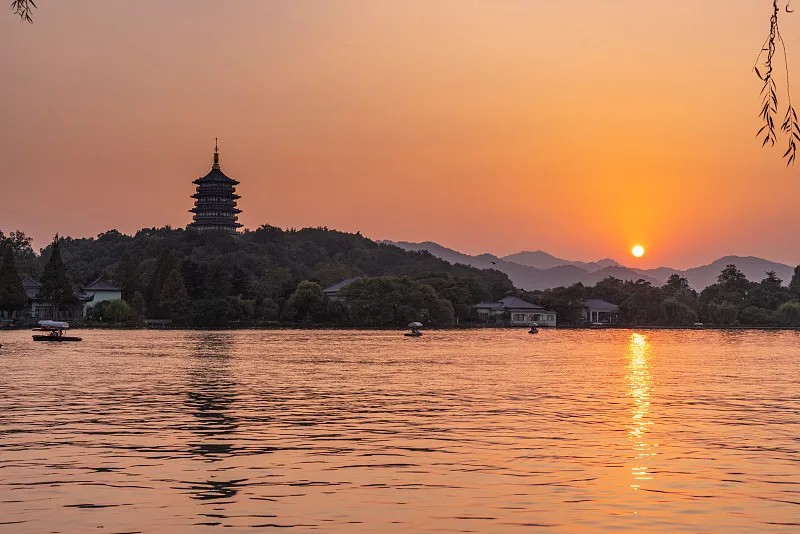Leifeng: (188, 137, 243, 234)
